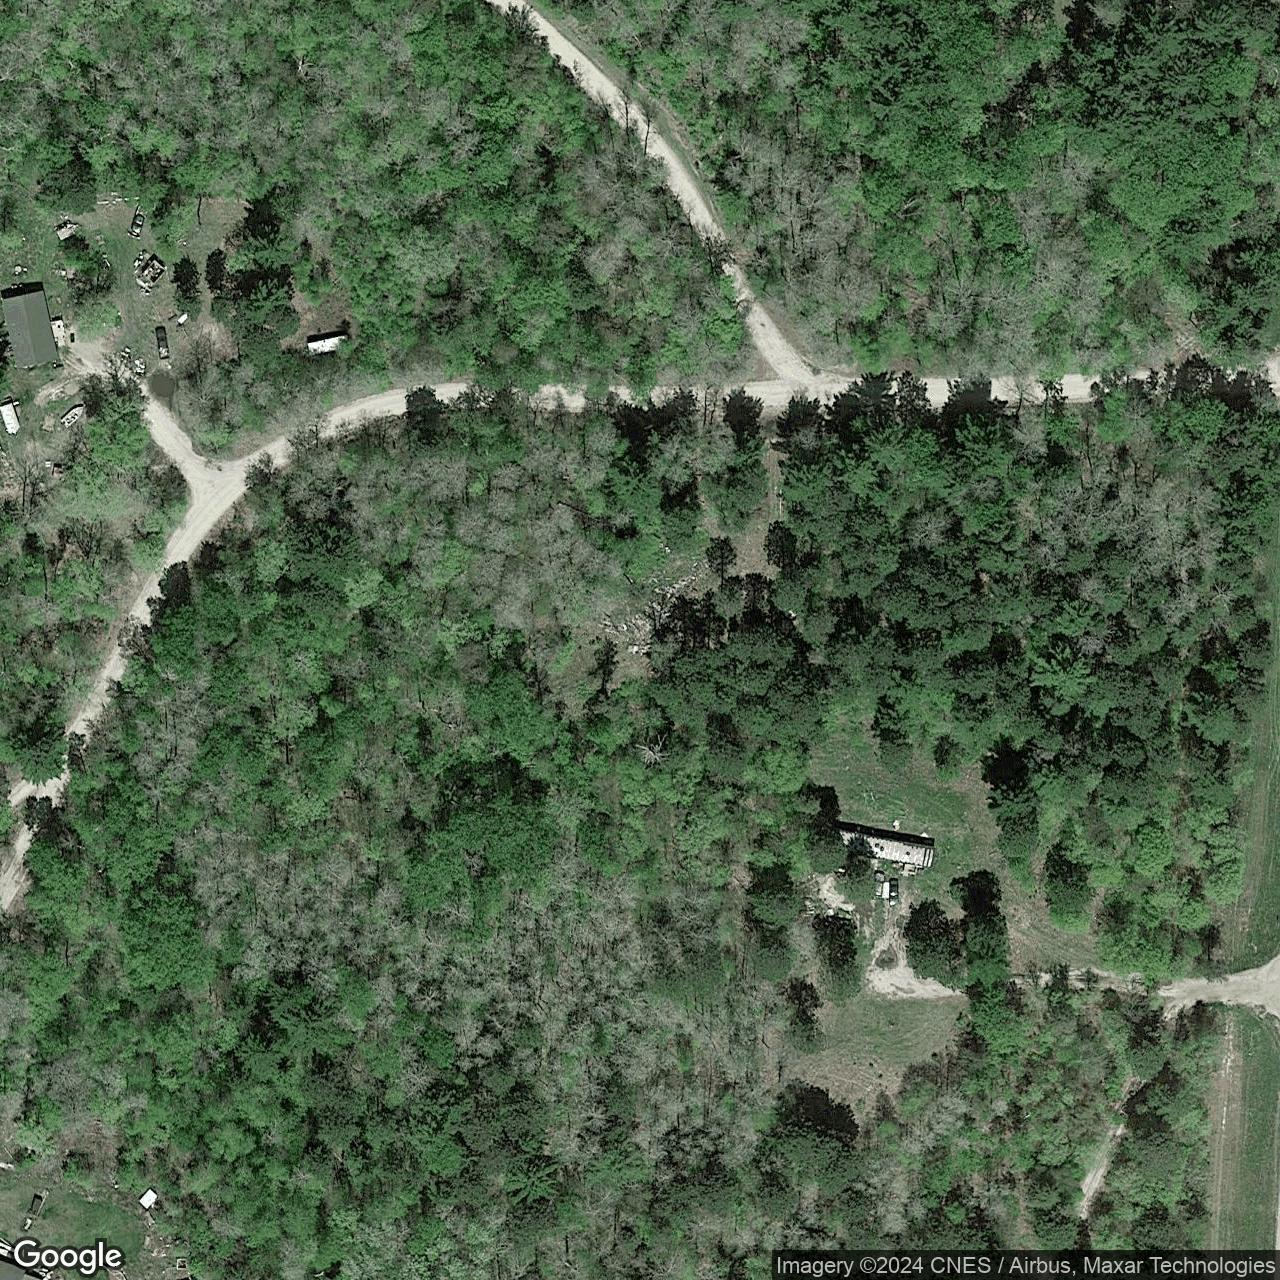House: (1, 288, 60, 372), (0, 1260, 41, 1280)
Trailer: (830, 829, 935, 869)
